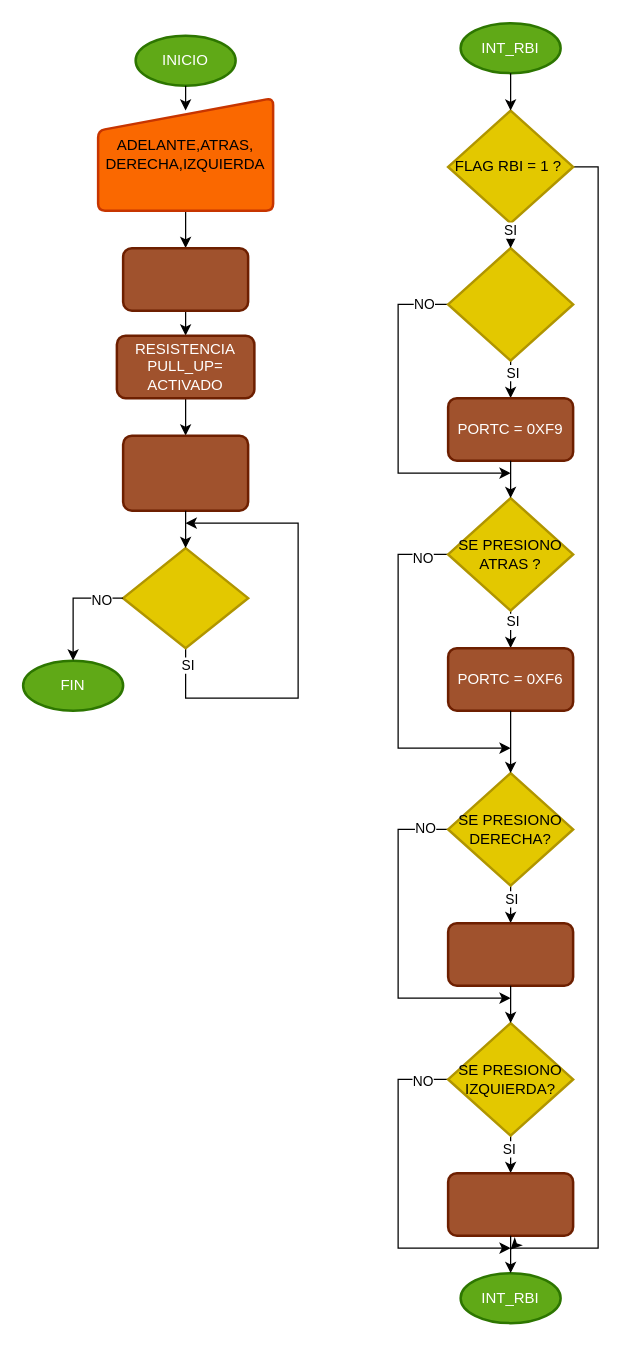
This 630x1345 diagram has some shape labels left out. Here are the shapes that lost their labels. From the top down, the centre of each, then its label:
At (185,278): "TRISC = 0X00 TRISB = 0XFF".
At (510,303): "SE PRESIONO ADELANTE ?".
At (185,472): "LIMPIAR PUERTO C Y PUERTOB".
At (185,597): "TRUE".
At (510,953): "PORTC = 0XF8".
At (510,1203): "PORTC = 0XF1".
